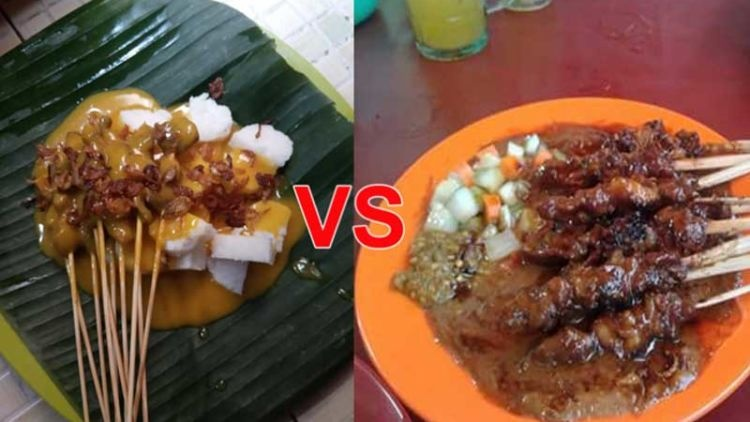sate_madura: (514, 110, 750, 385), (33, 85, 242, 365)
